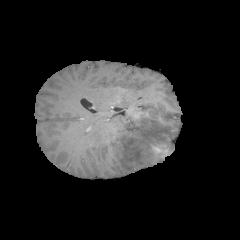glioma: (111, 112, 174, 173)
